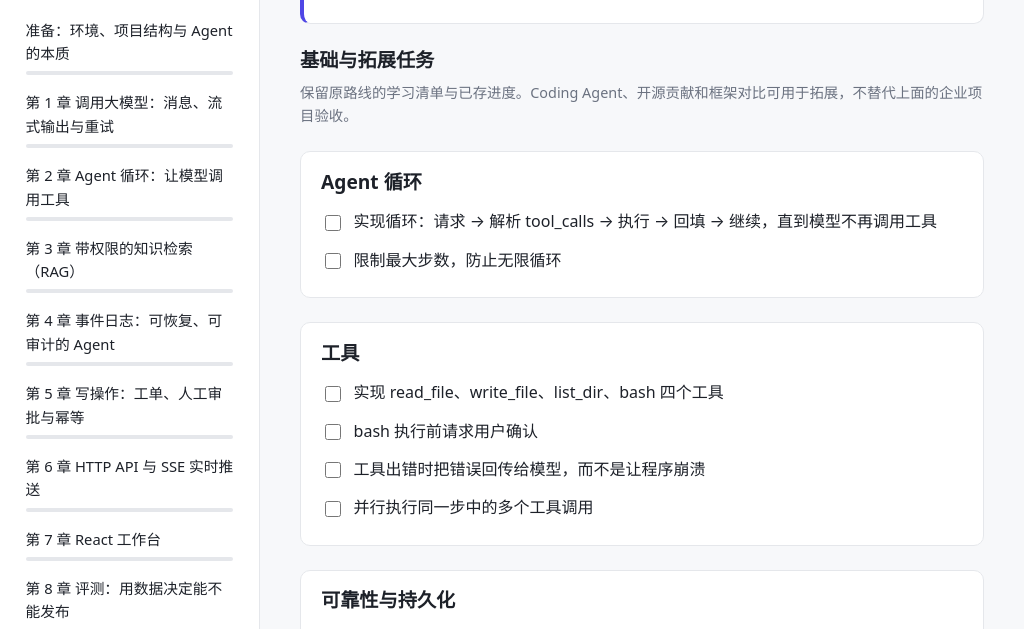
Test: App › checks a task, persists it, and updates stage progress
The image size is (1024, 629).
(page scrolled)
Click the checkbox labelled "限制最大步数，防止无限循环".
click(333, 261)  # box [325,253,341,269]
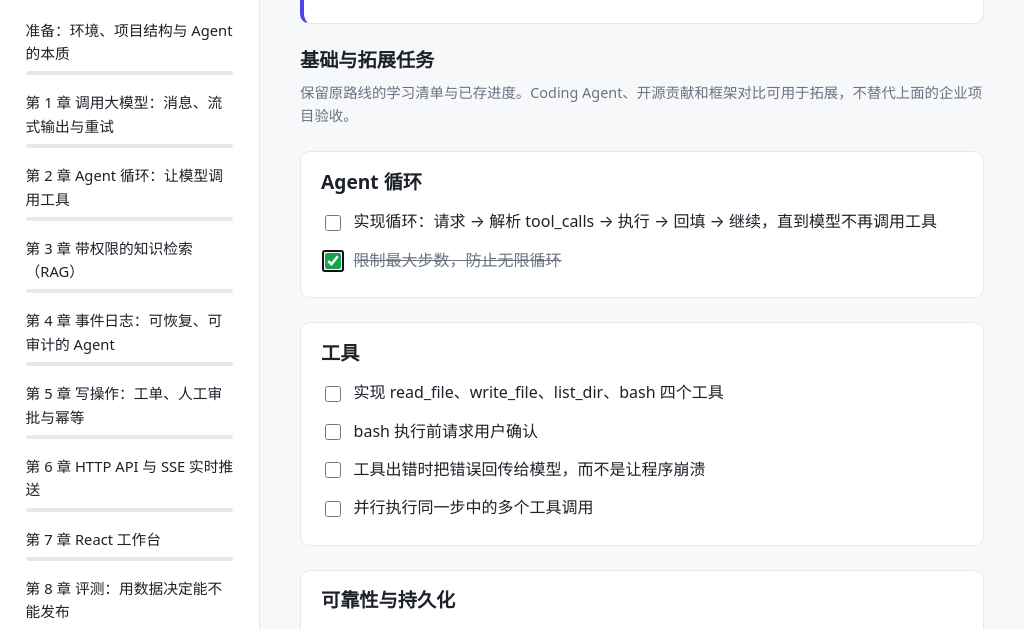
expect the checkbox labelled "限制最大步数，防止无限循环" is checked: met, box [325,253,341,269]
